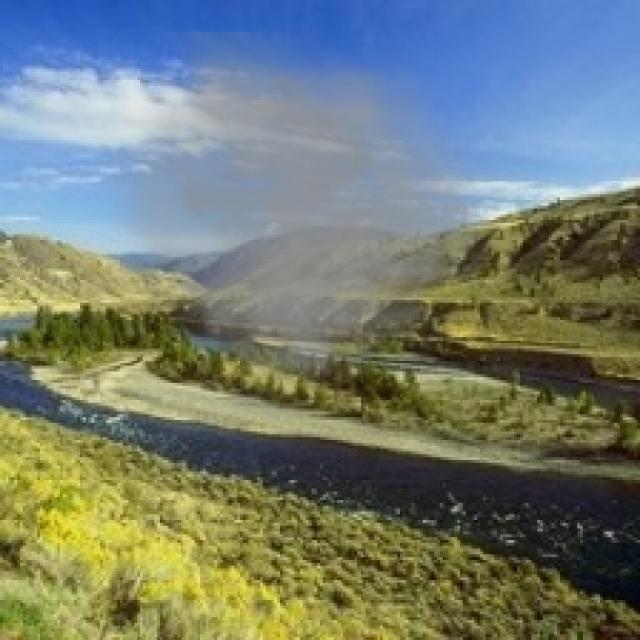Smoke: (91, 31, 506, 426)
